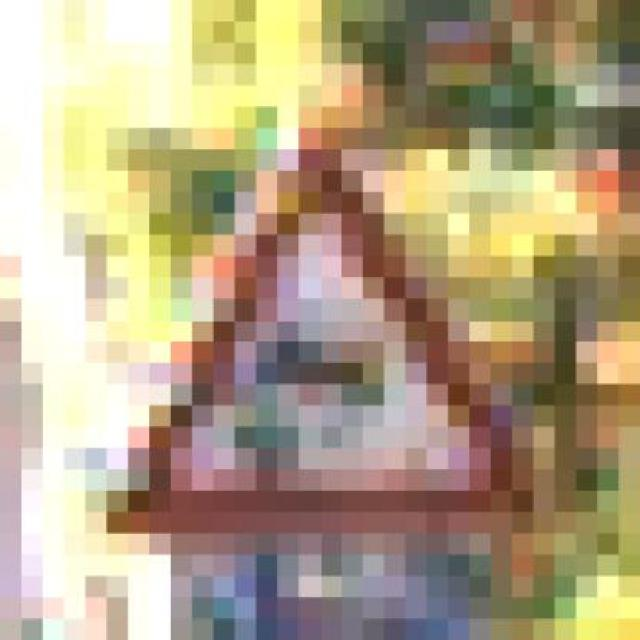Slippery Road Ahead: (106, 149, 534, 534)
